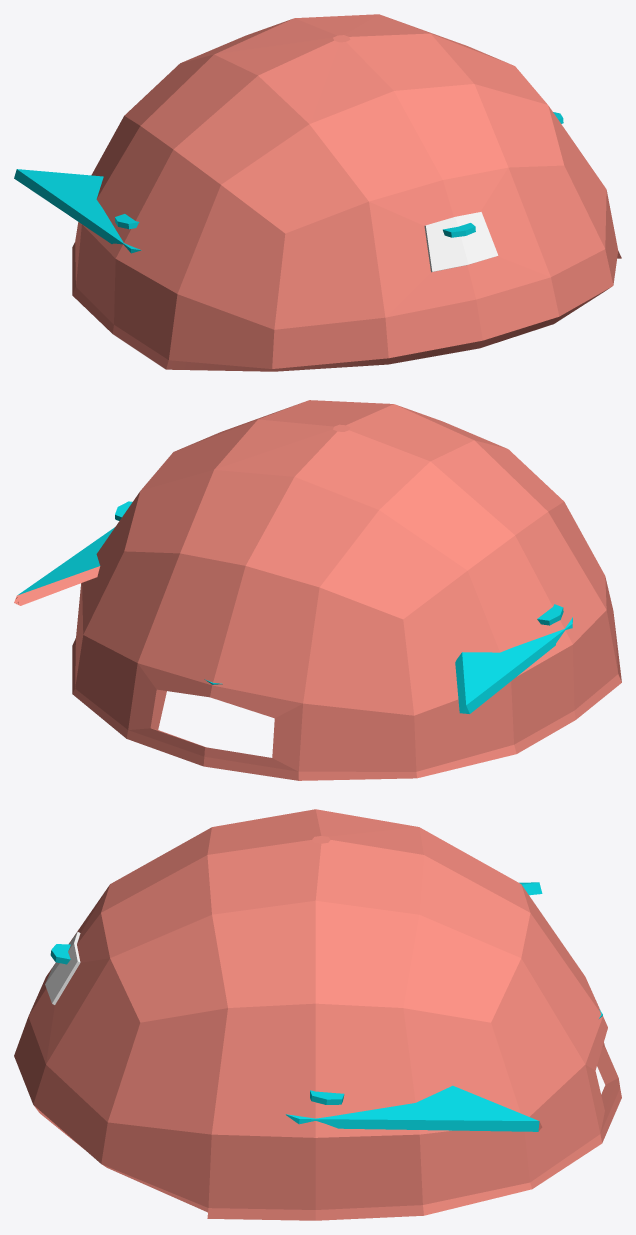
Rendered from propeller_hat.fbx.
3 renders of one model, top to bottom at view 1: azimuth 30°, elevation 25°; view 2: azimuth 150°, elevation 25°; view 3: azimuth 270°, elevation 25°, orthographic. The views are drawn at different scales.
Visible parts, largest first — view 1: Propeller_hat_01, Propeller_hat_01.001, Propeller_hat_01.002; view 2: Propeller_hat_01, Propeller_hat_01.001, Propeller_hat_01.002; view 3: Propeller_hat_01, Propeller_hat_01.001, Propeller_hat_01.002.
Part boxes in pixels (x1,y1,x2,y2): Propeller_hat_01: (72, 14, 621, 371); Propeller_hat_01.001: (14, 169, 141, 253); Propeller_hat_01.002: (115, 112, 563, 237); Propeller_hat_01: (72, 400, 621, 780); Propeller_hat_01.001: (14, 527, 572, 713); Propeller_hat_01.002: (115, 501, 563, 684); Propeller_hat_01: (14, 809, 621, 1220); Propeller_hat_01.001: (285, 882, 542, 1131); Propeller_hat_01.002: (50, 944, 602, 1104).
Bounding box in the file's own units: 677 × 331 × 707.
